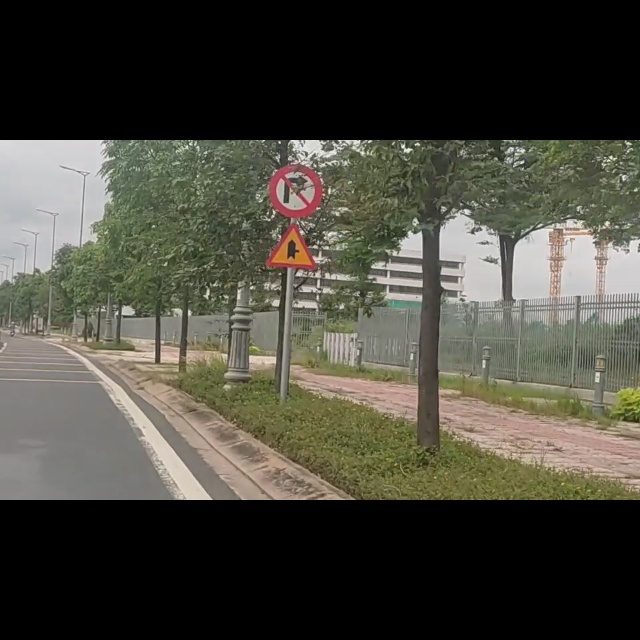bien_cam: (267, 41, 322, 139), (267, 141, 321, 232)
